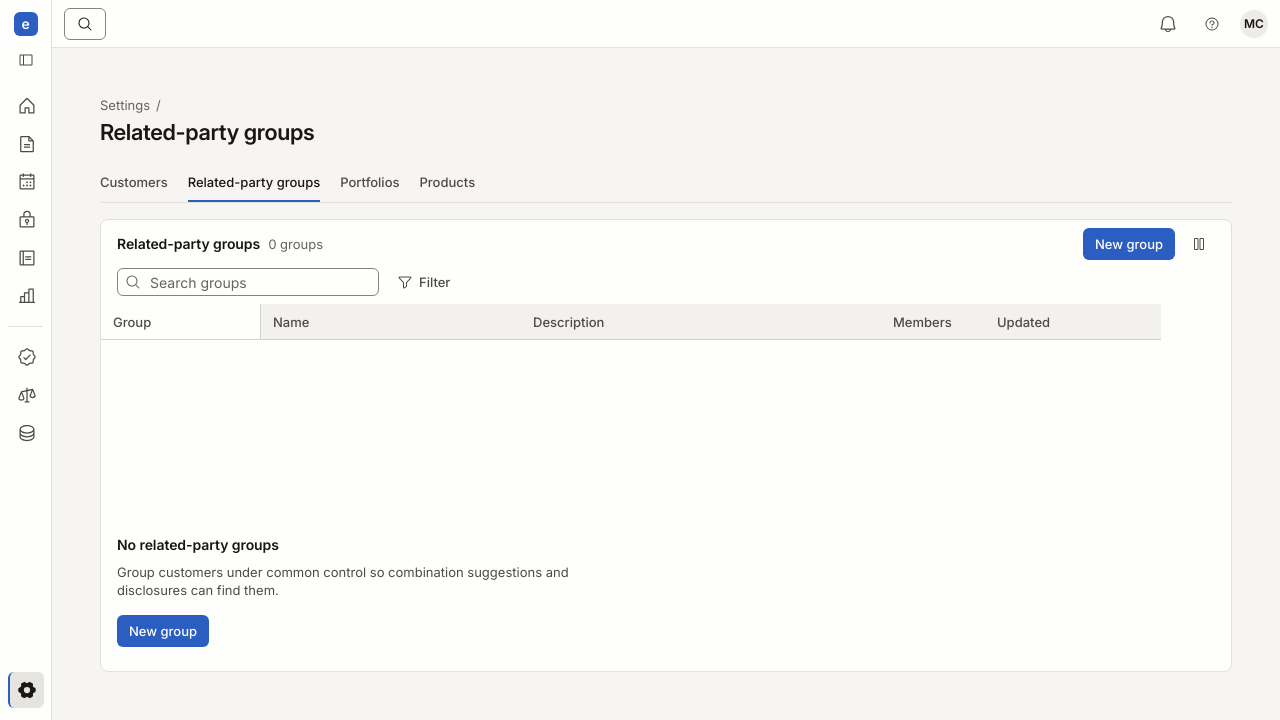
SF-15:related-party-groups › New group posts the group; the empty state reads No related-party groups
Expected: the heading "No related-party groups" is shown, [117,535,279,555]
Expected: the text "Group customers under common control so combination suggestions and disclosures can find them." is shown, [117,564,569,598]
Click the button "New group" below "No related-party groups" at (163,631), box [117,615,209,647]
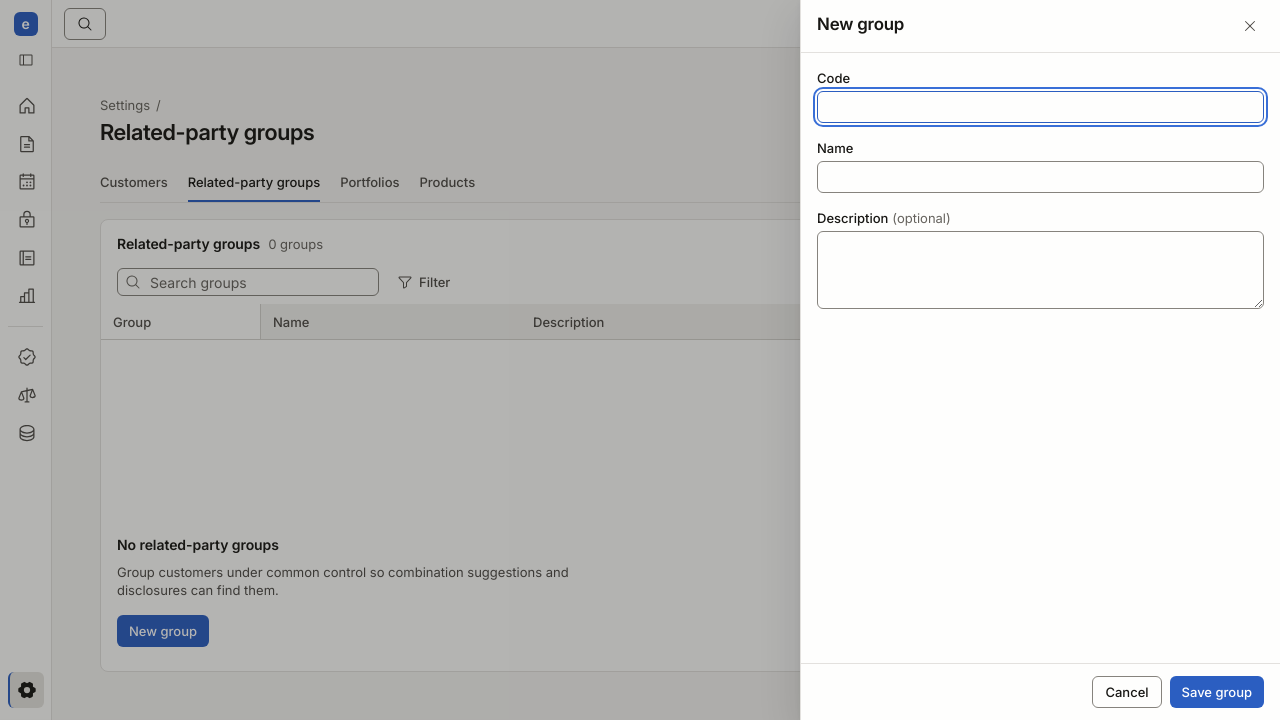
Click the button "Save group" at (1217,692), box [1170,676,1264,708]
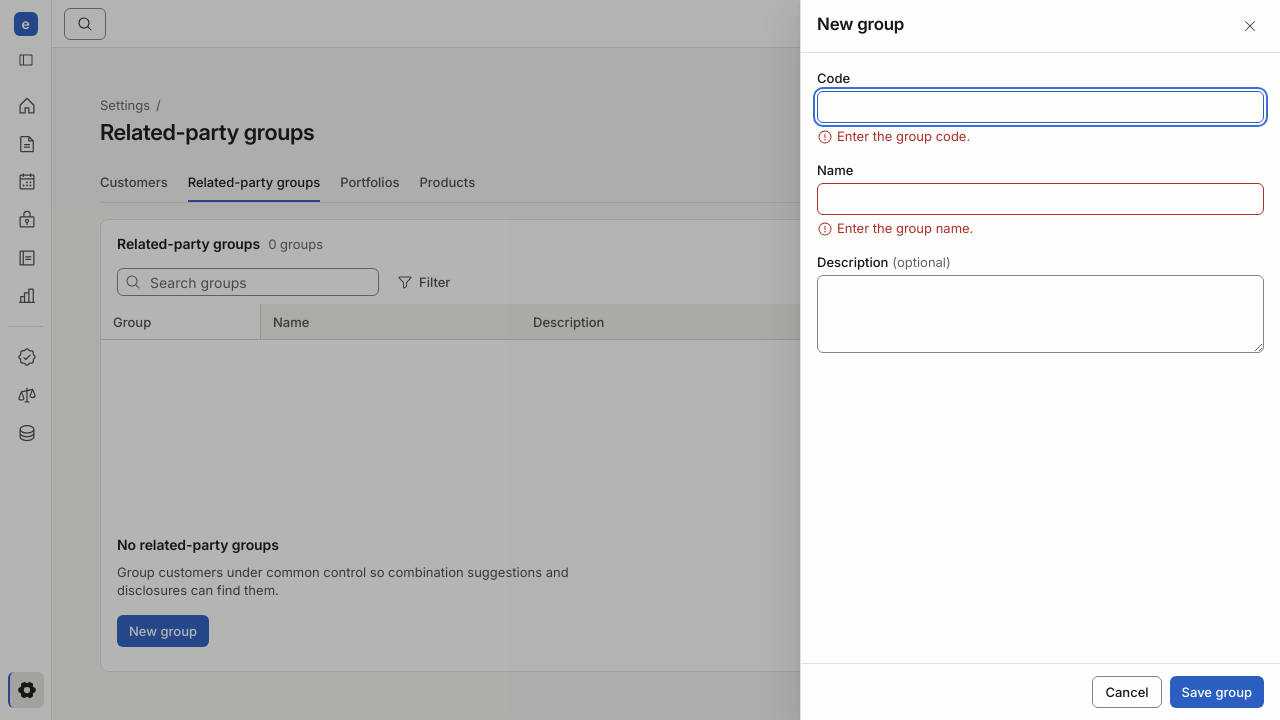
Result: the text "Enter the group code." is shown at [817,128,970,145]
Result: the text "Enter the group name." is shown at [817,220,973,237]
Type "HOLLENBRAND" into the field labelled "Code" at (1040,107), box [817,91,1264,123]
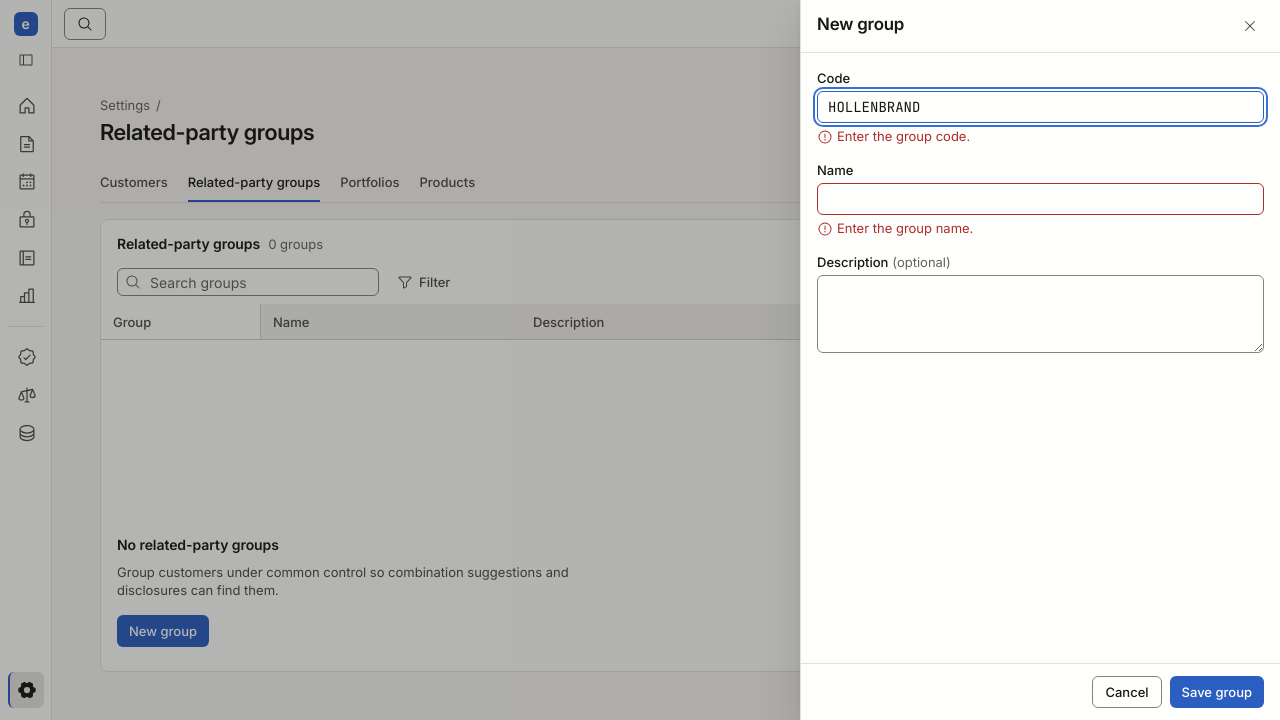
Type "Hollenbrand group" into the field labelled "Name" at (1040,199), box [817,183,1264,215]
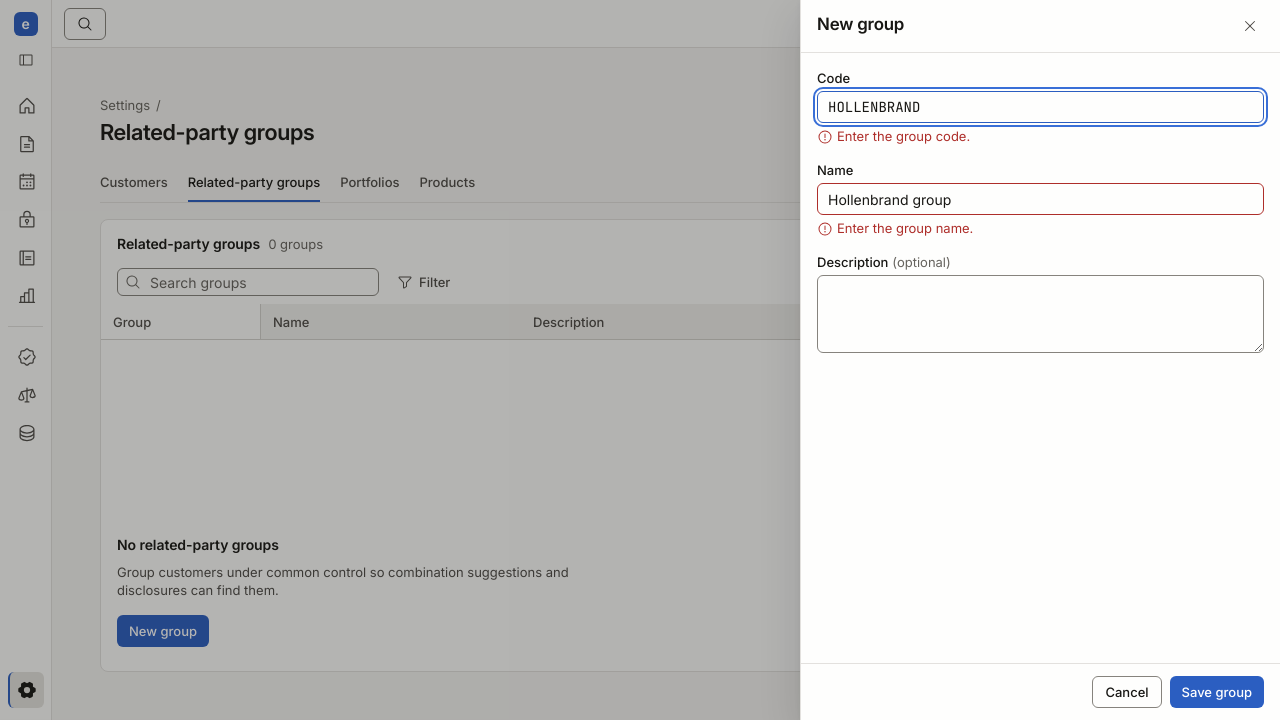
Type "Common control." into the text box labelled "Description(optional)" at (1040,314), box [817,275,1264,353]
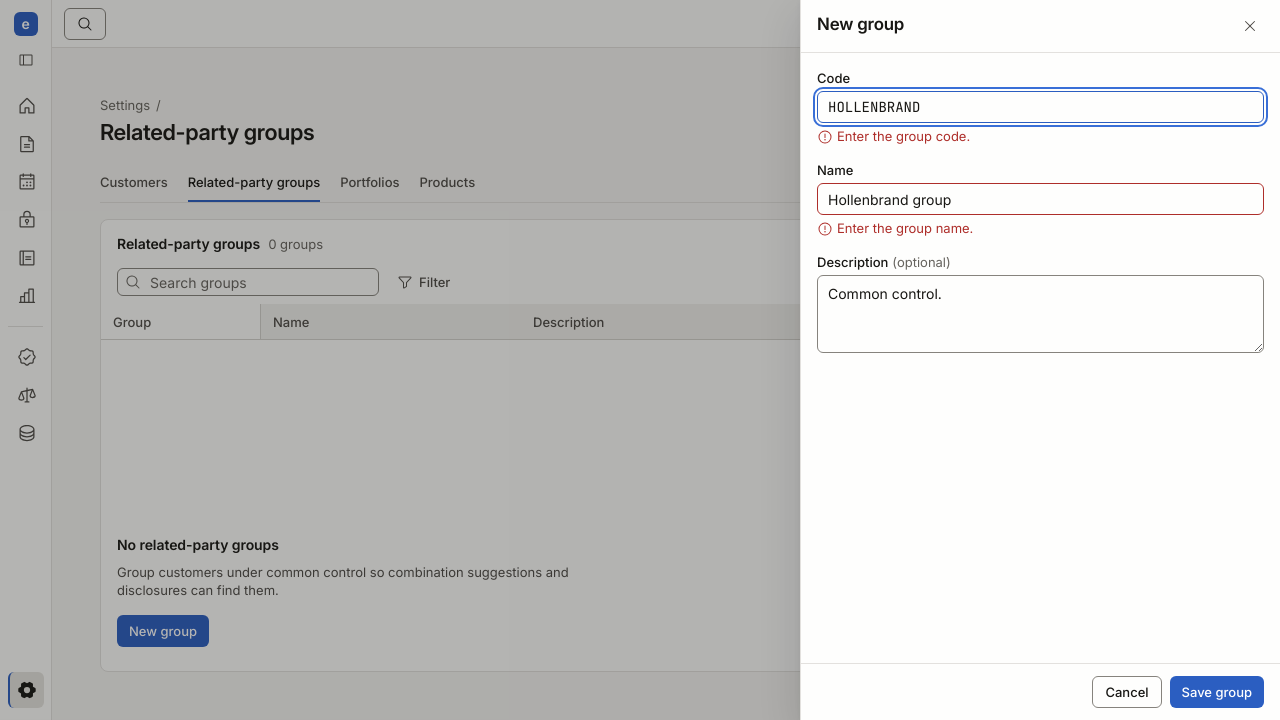
Click the button "Save group" at (1217,692), box [1170,676,1264,708]
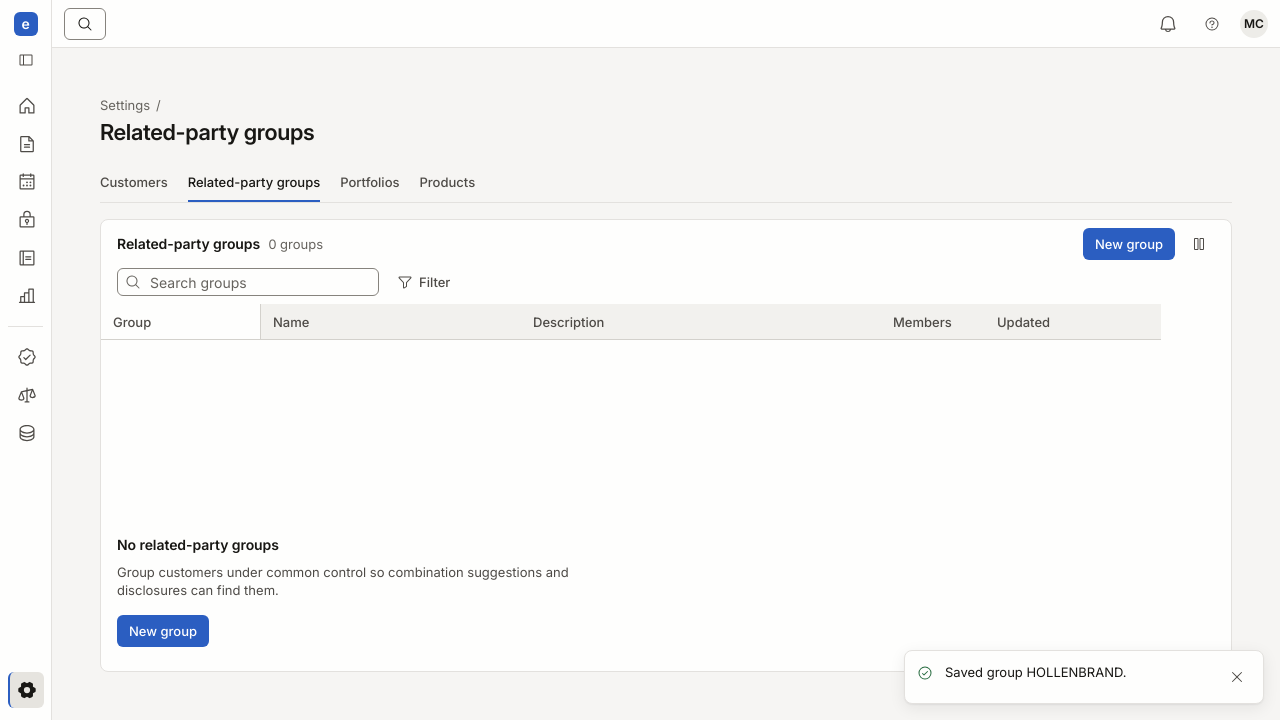
Result: the text "Saved group HOLLENBRAND." is shown at [945,663,1127,681]
